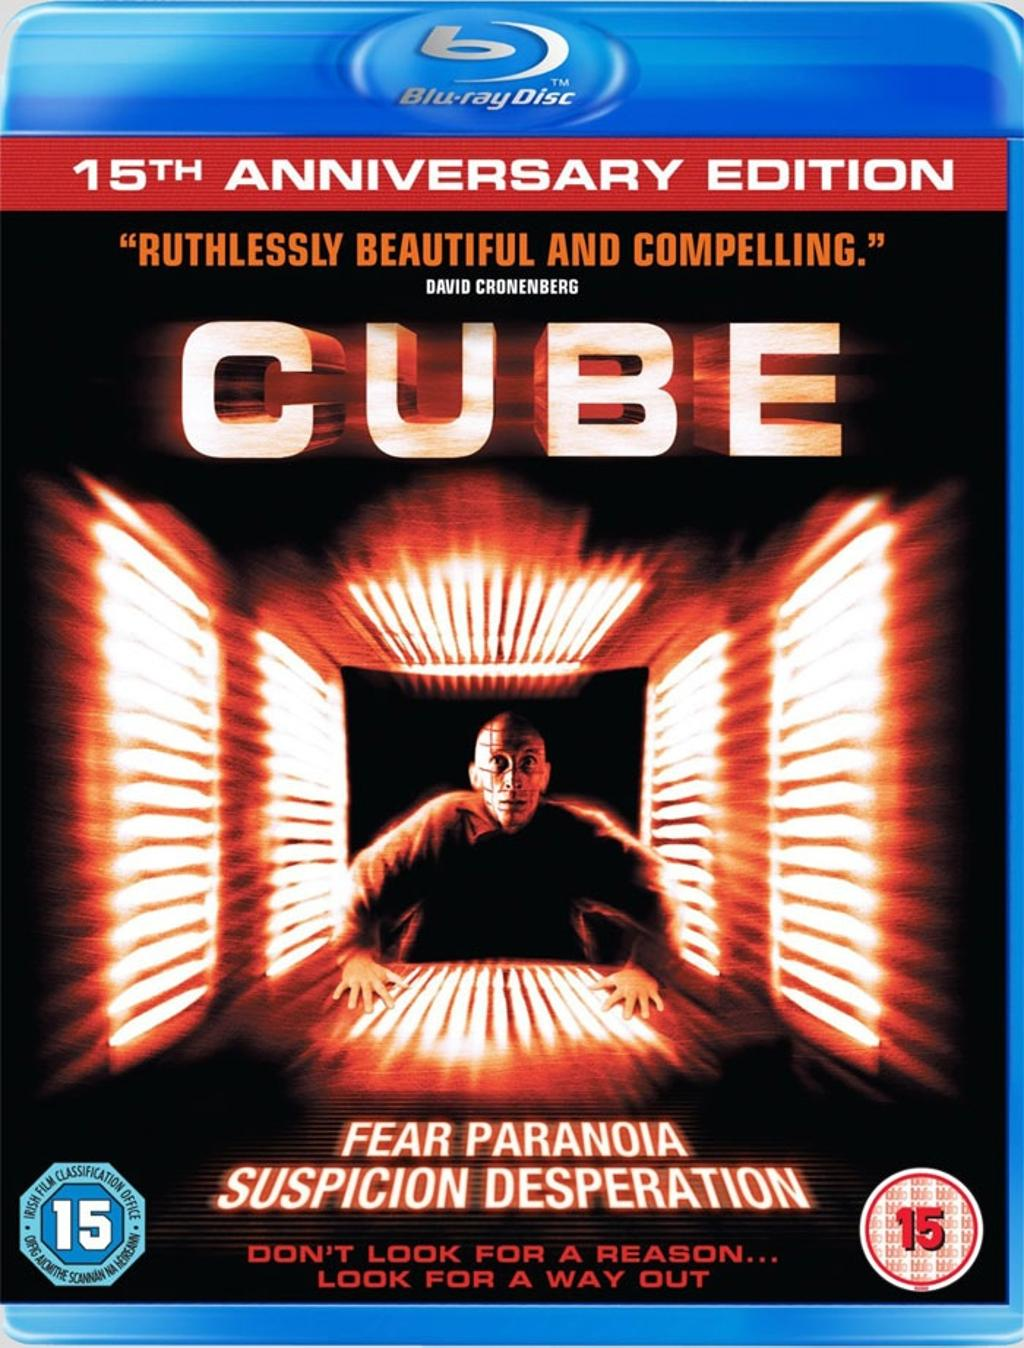face: (479, 724, 542, 821)
